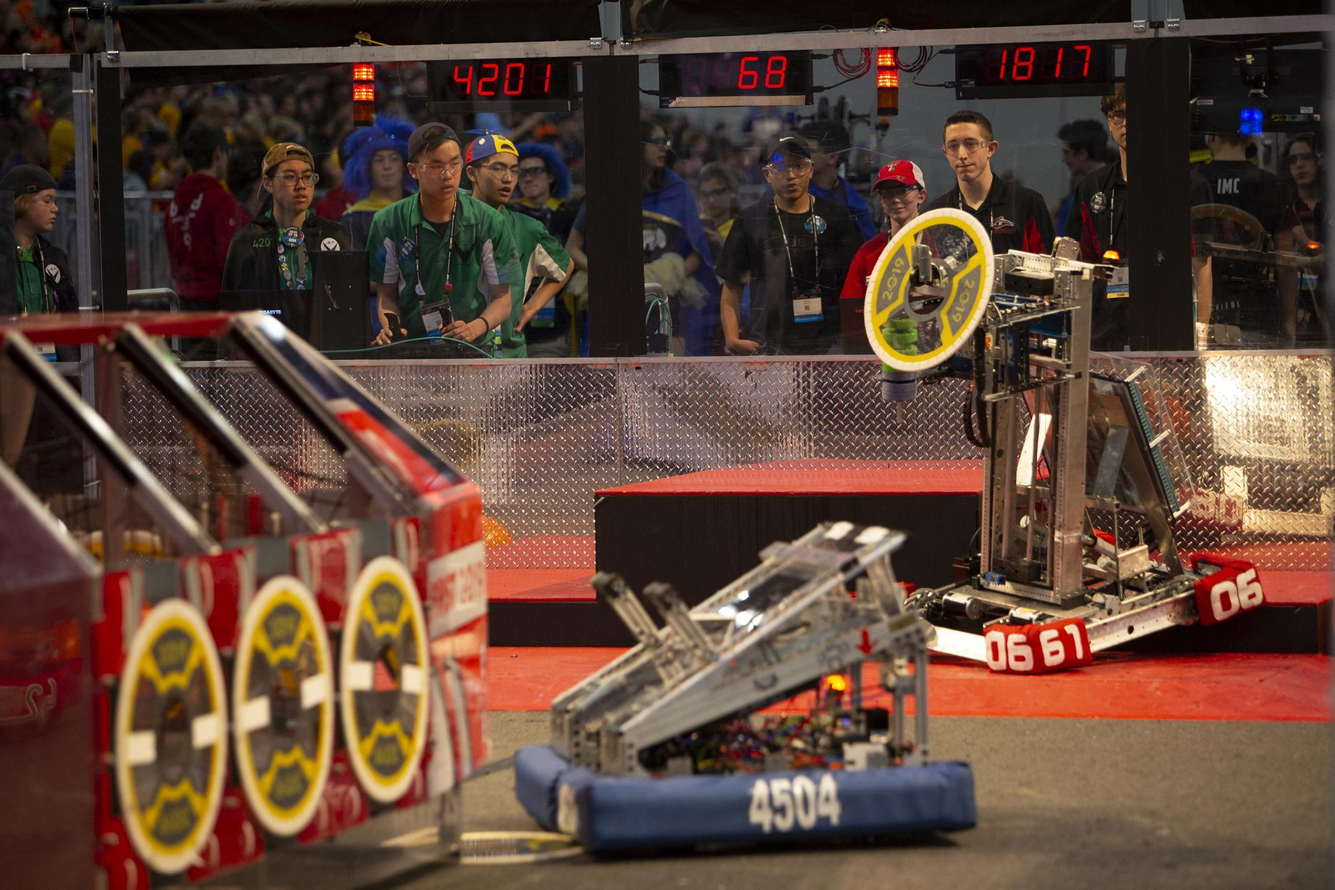robot: (876, 234, 1273, 668), (514, 512, 981, 857)
